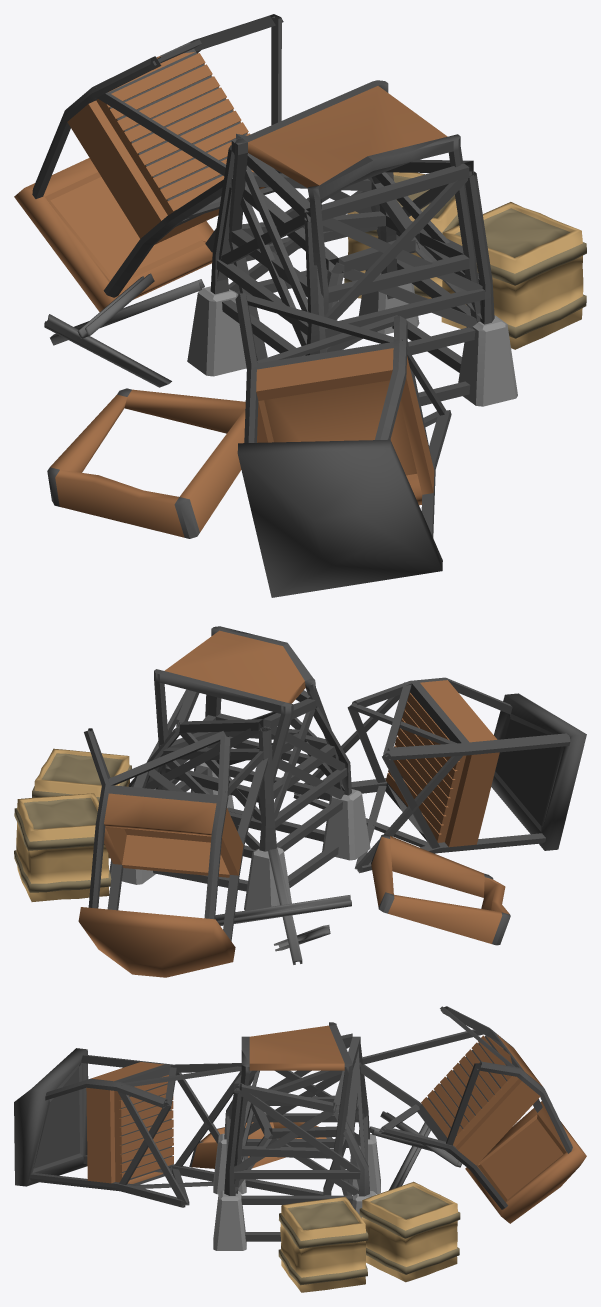
File: watchtower_broken_tiers.fbx
3 views of the same model, one above another, from view 1: azimuth 30°, elevation 25°; view 2: azimuth 150°, elevation 25°; view 3: azimuth 270°, elevation 25° (orthographic). The views are drawn at different scales.
Parts seen in each view (by area): view 1: watchtower_broken_t3, watchtower_t2, watchtower_t1; view 2: watchtower_broken_t3, watchtower_t2, watchtower_t1; view 3: watchtower_broken_t3, watchtower_t2, watchtower_t1.
Part boxes in pixels (x1,y1,x2,y2): watchtower_broken_t3: (44, 133, 586, 597); watchtower_t2: (14, 14, 481, 356); watchtower_t1: (47, 80, 480, 538); watchtower_broken_t3: (14, 677, 586, 964); watchtower_t2: (78, 728, 345, 977); watchtower_t1: (153, 626, 510, 945); watchtower_broken_t3: (14, 1033, 461, 1292); watchtower_t2: (235, 1006, 586, 1223); watchtower_t1: (189, 1022, 358, 1241).
Bounding box in the file's own units: 263 × 139 × 343.
